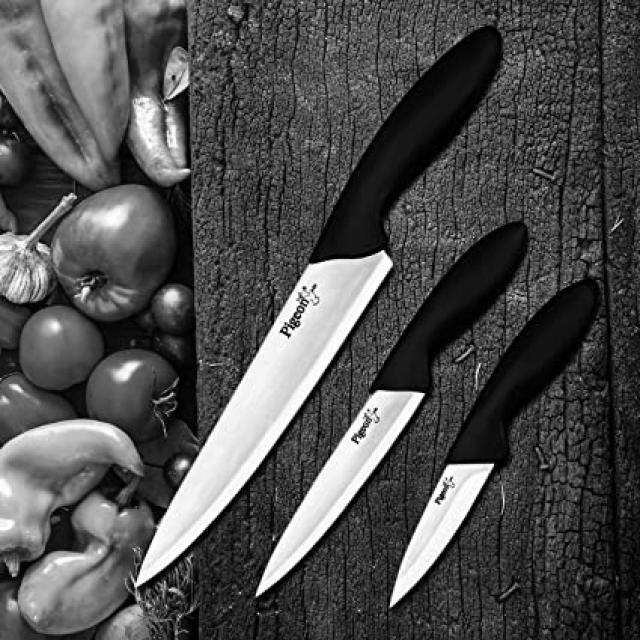Knife: (148, 13, 489, 640)
